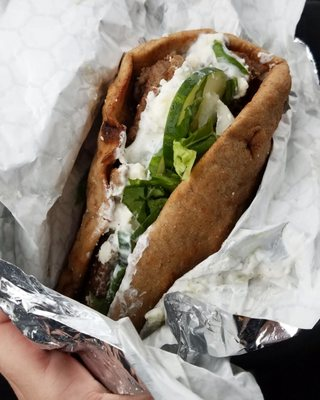soup: (52, 24, 292, 384)
